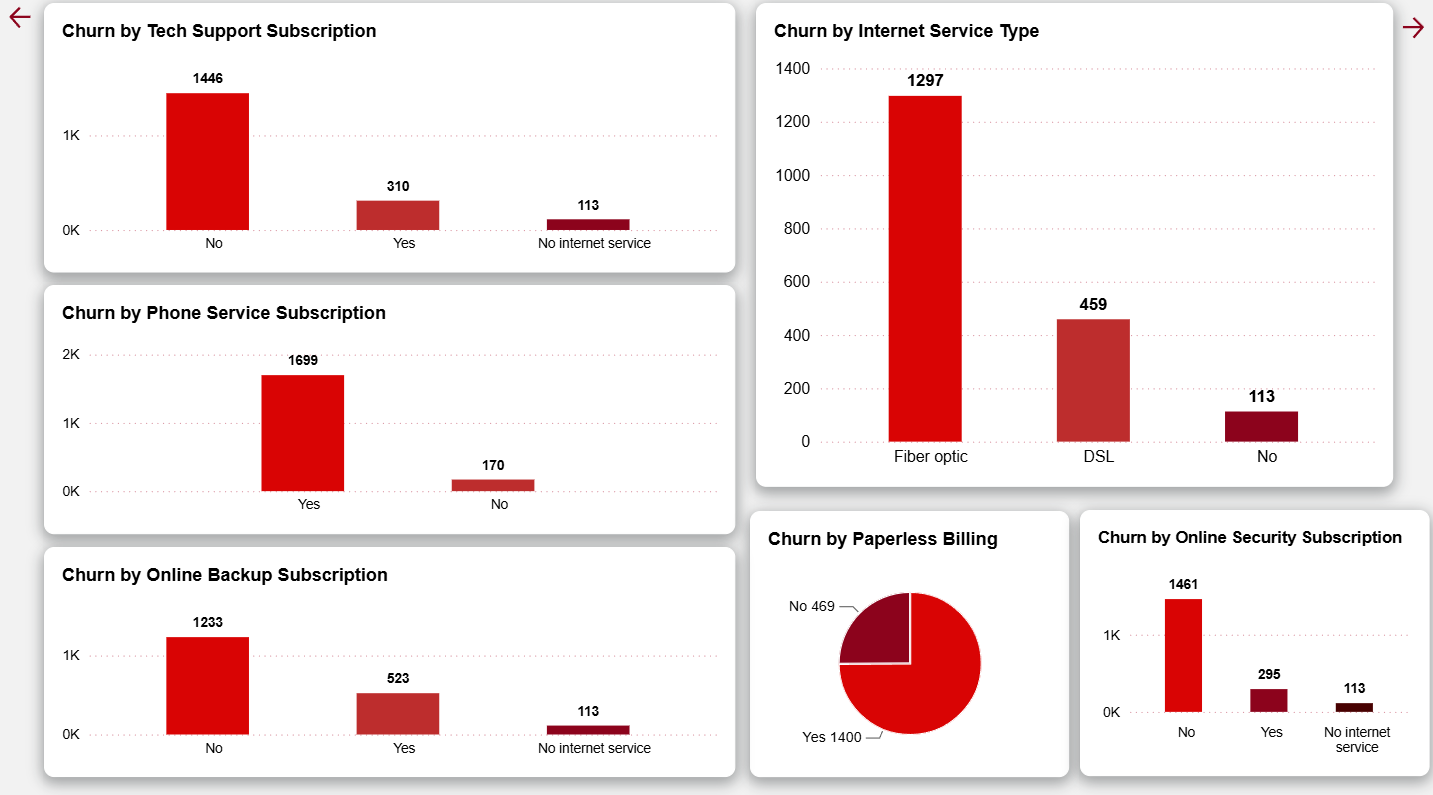

What the dashboard file says about the page in this screenshot:
{"tool":"powerbi","page":{"name":"services & customer experience","canvas":[1280,720],"ordinal":2},"visuals":[{"type":"clusteredColumnChart","title":"Churn by Tech Support Subscription","fields":{"Category":["data.TechSupport"],"Y":["measures table.no. churn cus"]},"box":[40.8,6.8,612.8,239.3],"z":0},{"type":"clusteredColumnChart","title":"Churn by Internet Service Type","fields":{"Category":["data.InternetService"],"Y":["measures table.no. churn cus"]},"box":[672.1,6.8,565.1,428.9],"z":1000},{"type":"clusteredColumnChart","title":"Churn by Phone Service Subscription","fields":{"Category":["data.PhoneService"],"Y":["measures table.no. churn cus"]},"box":[40.8,256.8,612.8,220.8],"z":2000},{"type":"pieChart","title":"Churn by Paperless Billing","fields":{"Category":["data.PaperlessBilling"],"Y":["measures table.no. churn cus"]},"box":[667.2,457.1,283,236.4],"z":3000},{"type":"clusteredColumnChart","title":"Churn by Online Security Subscription","fields":{"Category":["data.OnlineSecurity"],"Y":["measures table.no. churn cus"]},"box":[959,457,310,236],"z":4000},{"type":"clusteredColumnChart","title":"Churn by Online Backup Subscription","fields":{"Y":["measures table.no. churn cus"],"Category":["data.OnlineBackup"]},"box":[40.8,489.2,612.8,204.3],"z":5000},{"type":"actionButton","box":[1232.3,6.8,43.8,44.7],"z":6000},{"type":"actionButton","box":[0,0,39.9,39.9],"z":7000}]}

Visuals, with their boxes in screenshot pixels (x1, y1, x2, y2), scaled from the page's 1280x720 canvas onto the 1433x795 screenshot:
"Churn by Tech Support Subscription" clusteredColumnChart: [left=46, top=8, right=732, bottom=272]
"Churn by Internet Service Type" clusteredColumnChart: [left=752, top=8, right=1385, bottom=481]
"Churn by Phone Service Subscription" clusteredColumnChart: [left=46, top=284, right=732, bottom=527]
"Churn by Paperless Billing" pieChart: [left=747, top=505, right=1064, bottom=766]
"Churn by Online Security Subscription" clusteredColumnChart: [left=1074, top=505, right=1421, bottom=765]
"Churn by Online Backup Subscription" clusteredColumnChart: [left=46, top=540, right=732, bottom=766]
actionButton: [left=1380, top=8, right=1429, bottom=57]
actionButton: [left=0, top=0, right=45, bottom=44]
